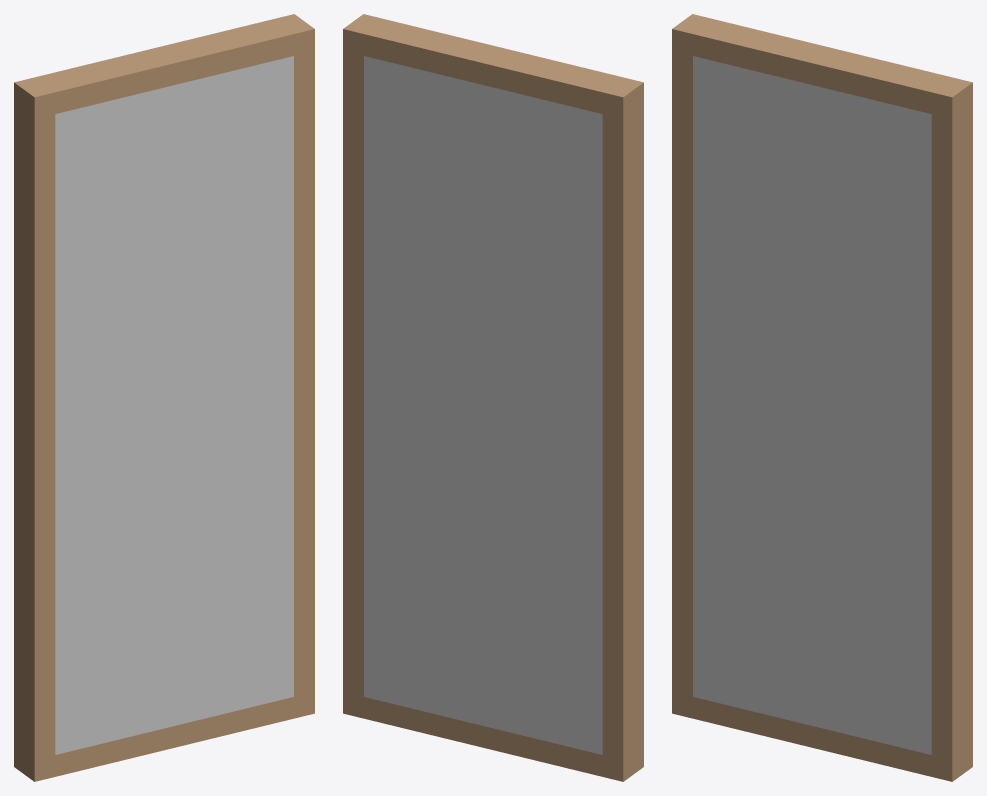
The picture shows the model from 3 angles, left to right: view 1: azimuth 30°, elevation 25°; view 2: azimuth 150°, elevation 25°; view 3: azimuth 330°, elevation 25°; orthographic projection.
Visible parts, largest first — view 1: Door A; view 2: Door A; view 3: Door A.
Part boxes in pixels (left/top/right/bottom): Door A: left=14, top=14, right=314, bottom=781; Door A: left=343, top=14, right=643, bottom=781; Door A: left=672, top=14, right=972, bottom=781.
Bounding box in the file's own units: 0.9 × 2.1 × 0.114.
